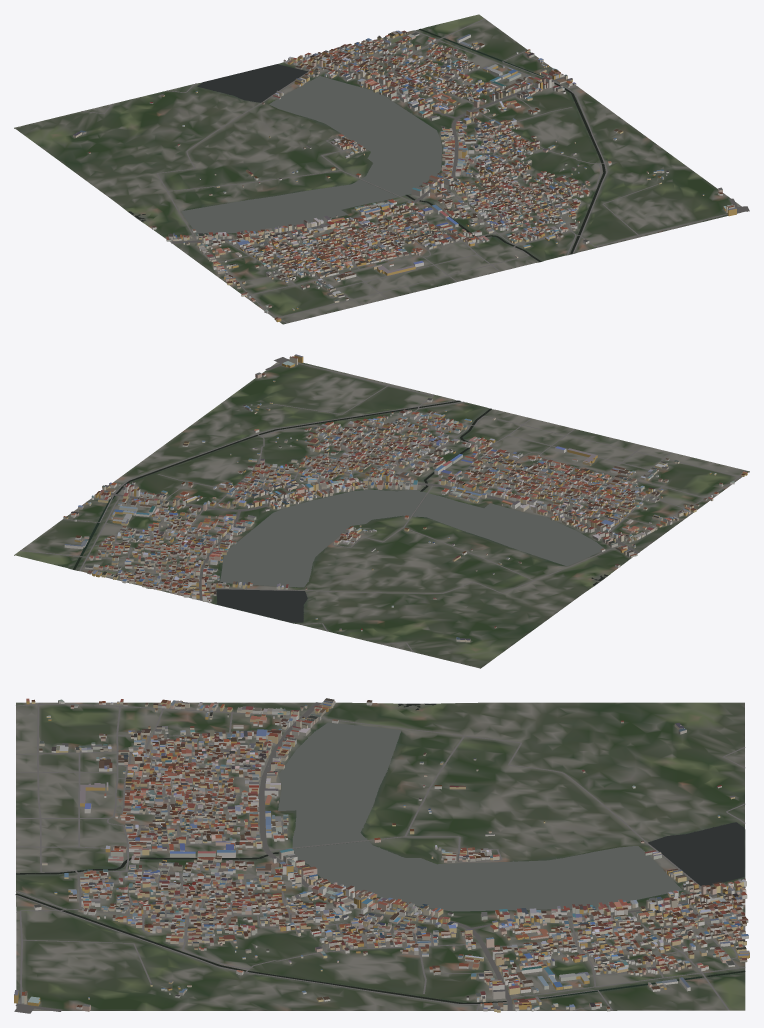
3 views of the same model, one above another, from view 1: azimuth 30°, elevation 25°; view 2: azimuth 150°, elevation 25°; view 3: azimuth 270°, elevation 25° (orthographic). The views are drawn at different scales.
Parts seen in each view (by area): view 1: ground, buildings, water, roads; view 2: ground, buildings, water, roads; view 3: ground, buildings, water, roads.
Part boxes in pixels (bbox=[...]): ground: bbox=[14, 14, 742, 324]; buildings: bbox=[73, 30, 736, 322]; water: bbox=[128, 28, 605, 261]; roads: bbox=[81, 18, 749, 323]; ground: bbox=[14, 359, 749, 668]; buildings: bbox=[63, 354, 747, 642]; water: bbox=[73, 400, 607, 622]; roads: bbox=[20, 357, 745, 652]; ground: bbox=[16, 702, 745, 1010]; buildings: bbox=[14, 698, 749, 1012]; water: bbox=[15, 703, 745, 1003]; roads: bbox=[14, 702, 745, 1013].
Bounding box in the file's own units: 1421 × 29.32 × 1415.
